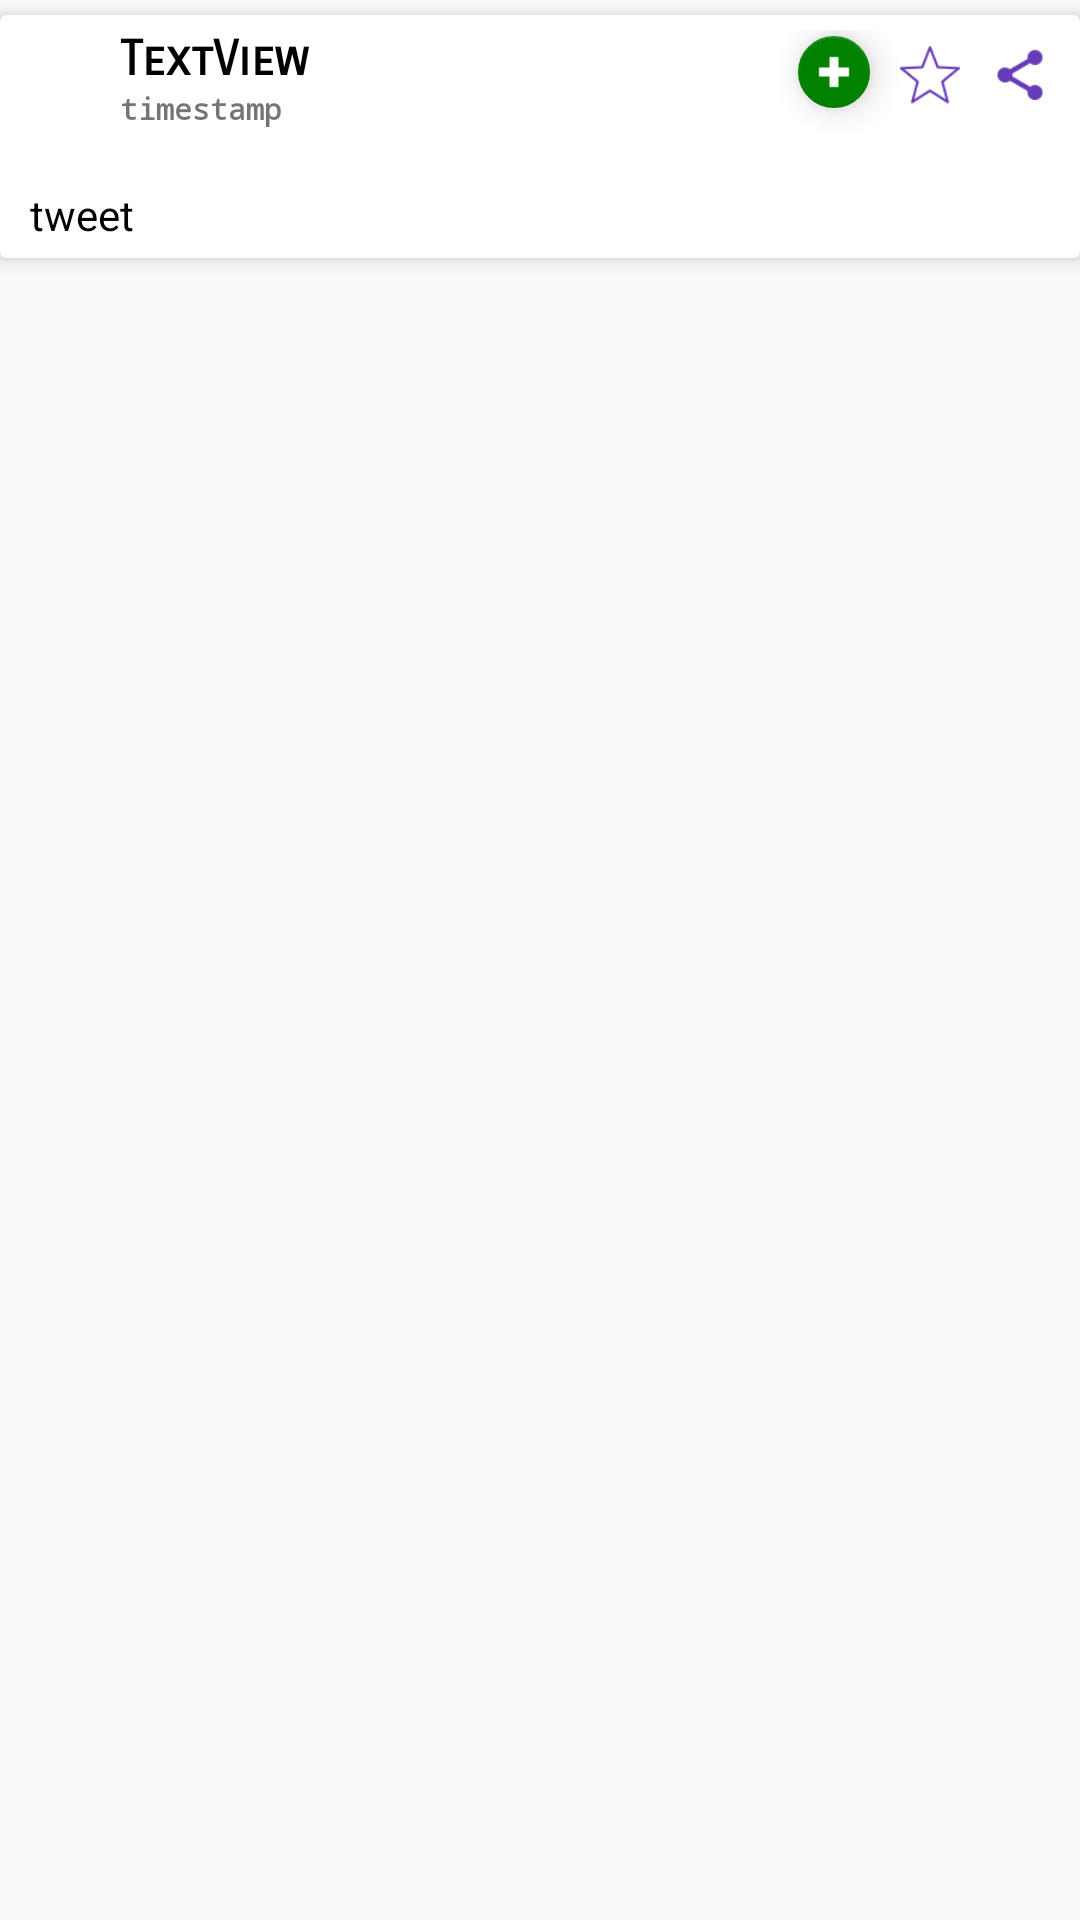

Icon click points for this 1080 x 1920 phone screenshot, format point (x, y):
addcoin: point (834, 72)
shareapp: point (1020, 75)
starunfilled: point (930, 75)
